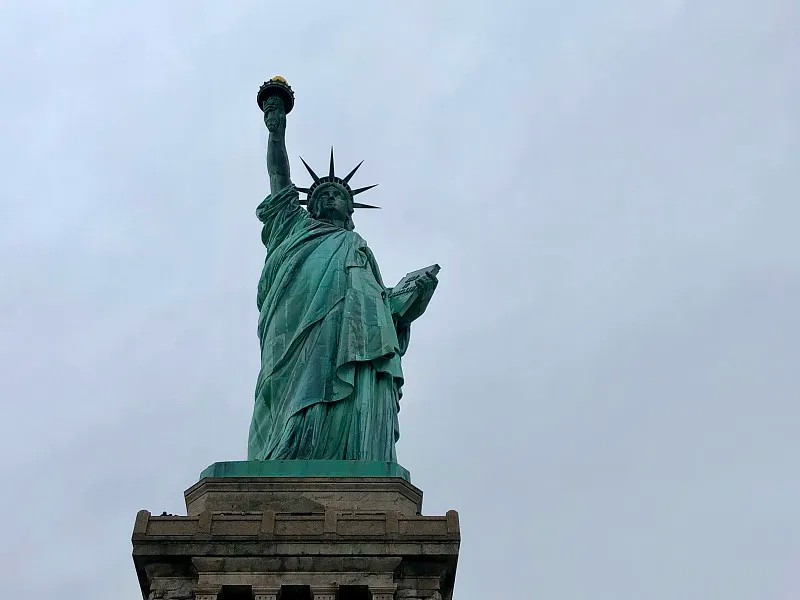SL: (132, 76, 461, 600)
